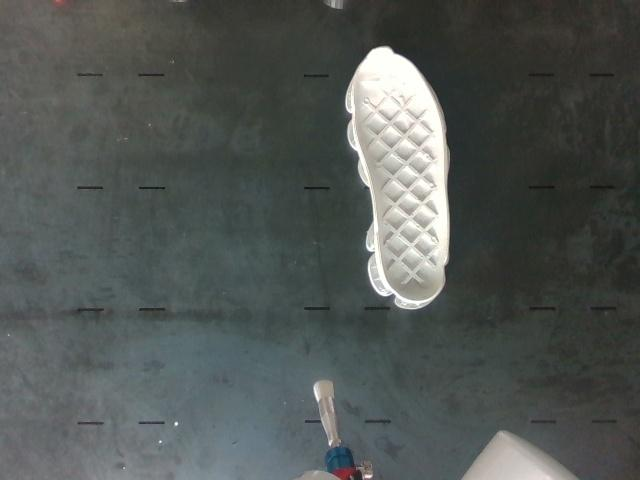shoes: (354, 48, 447, 301)
